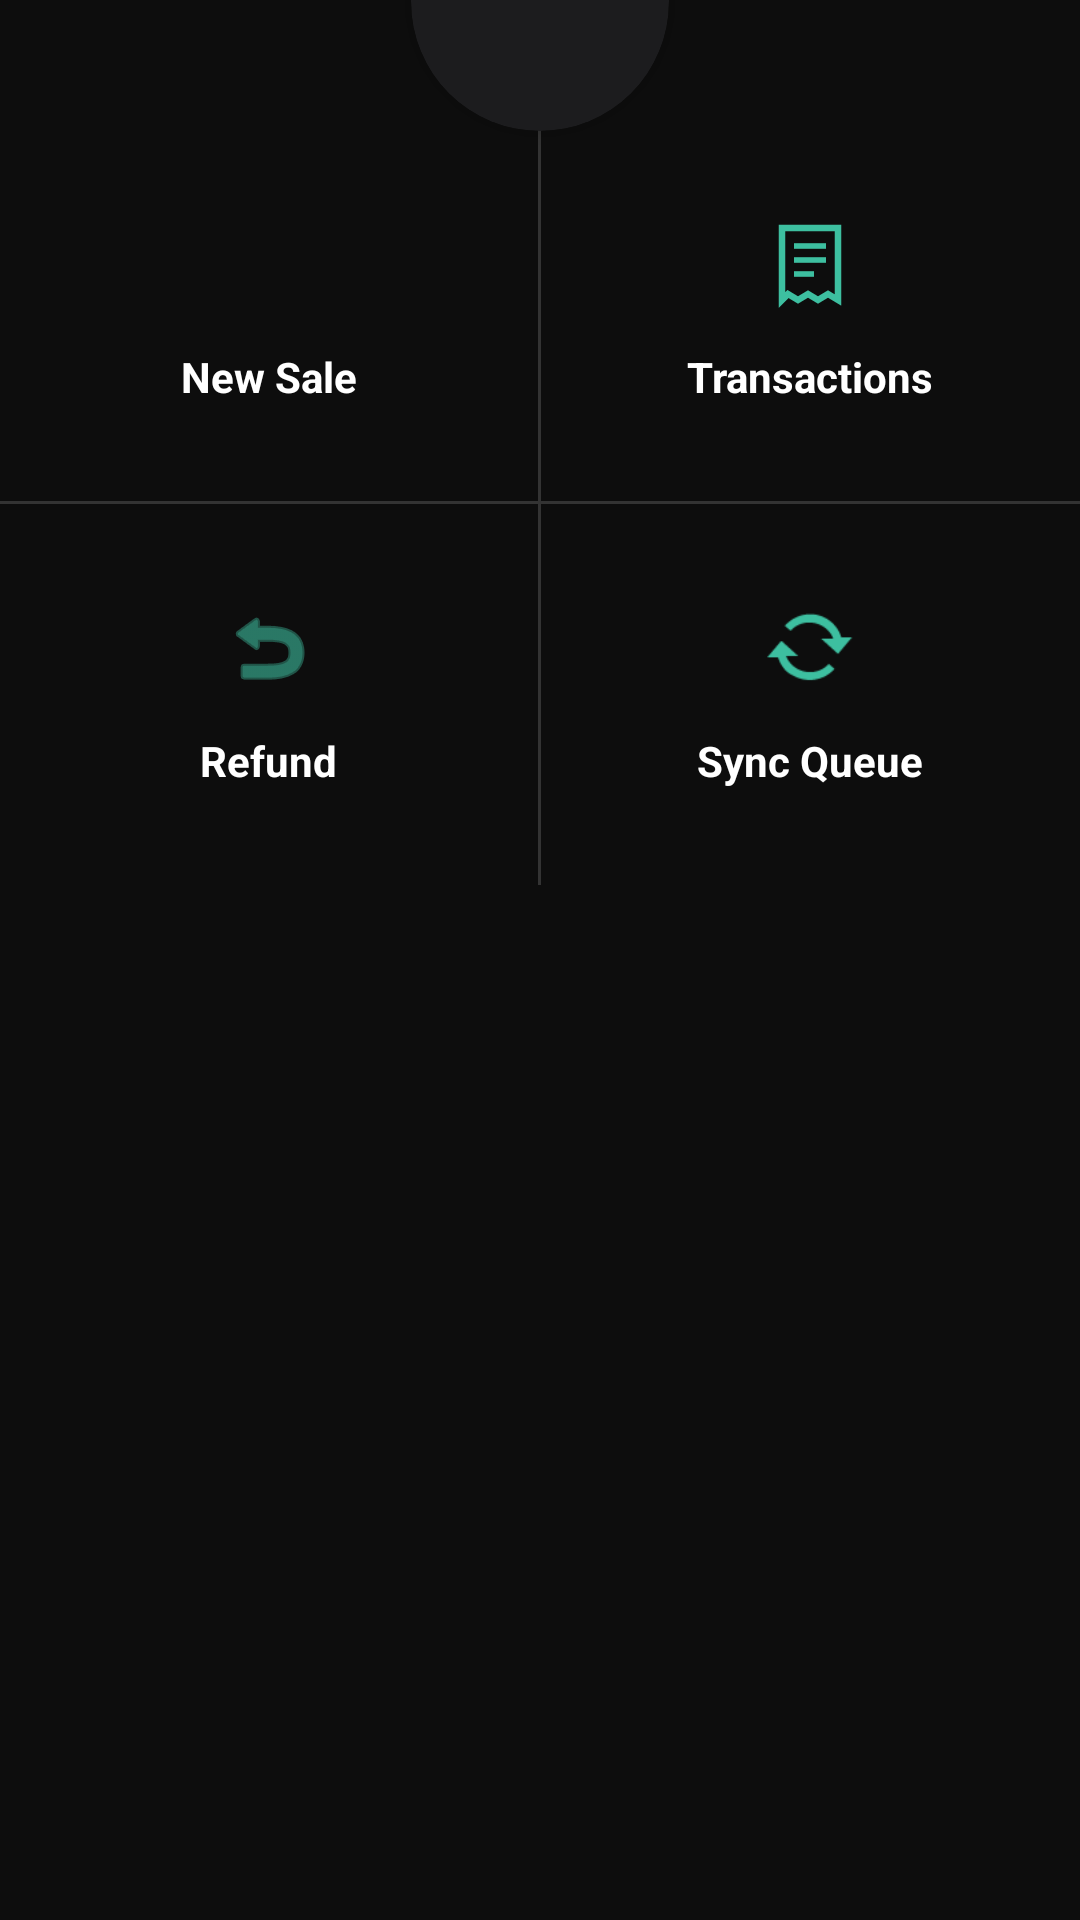

Icons on this 1080px×1920px Android screen, each with the point to tap as (x=x, y=y):
receipt: (x=810, y=266)
revert: (x=270, y=648)
